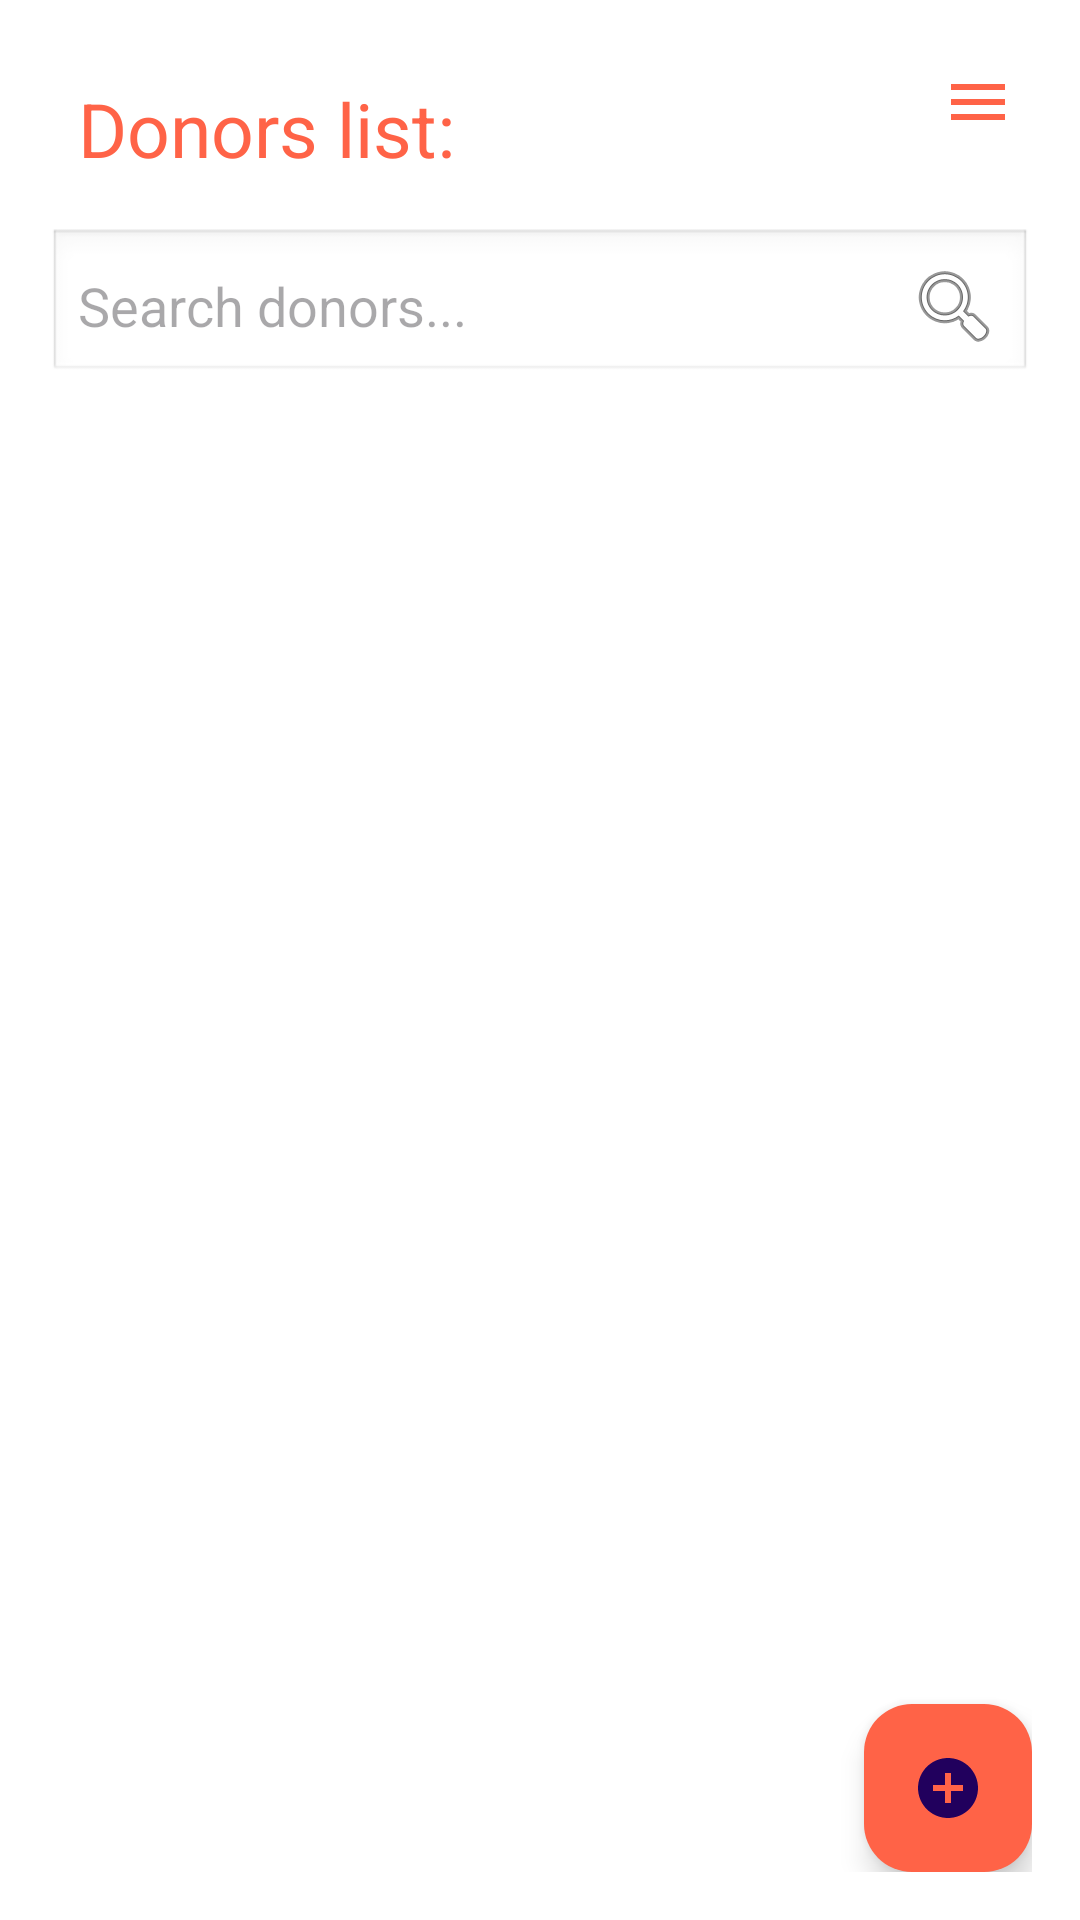

Icon bounding boxes for this 1080px x 1920px phone screenshot, format (x1, y1, x2, y2):
add circle: (864, 1704, 1032, 1872)
menu: (951, 84, 1005, 120)
